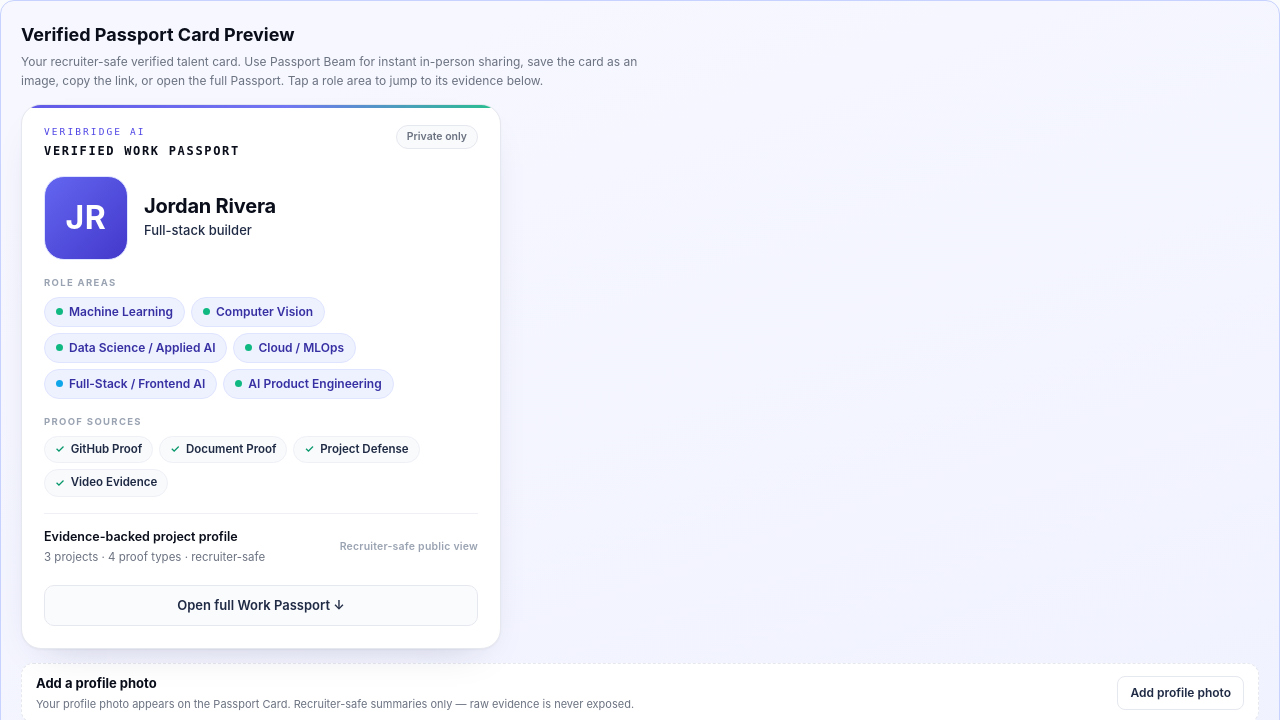
Verified Passport Card preview (private) › clicking a card role chip sets the high-level Role Area filter (not a skill)
The image size is (1280, 720).
Click the button with test id "passport-card-capability" showing "Computer Vision" at point(258, 312), box x1=191 y1=297 x2=325 y2=327
(page scrolled)
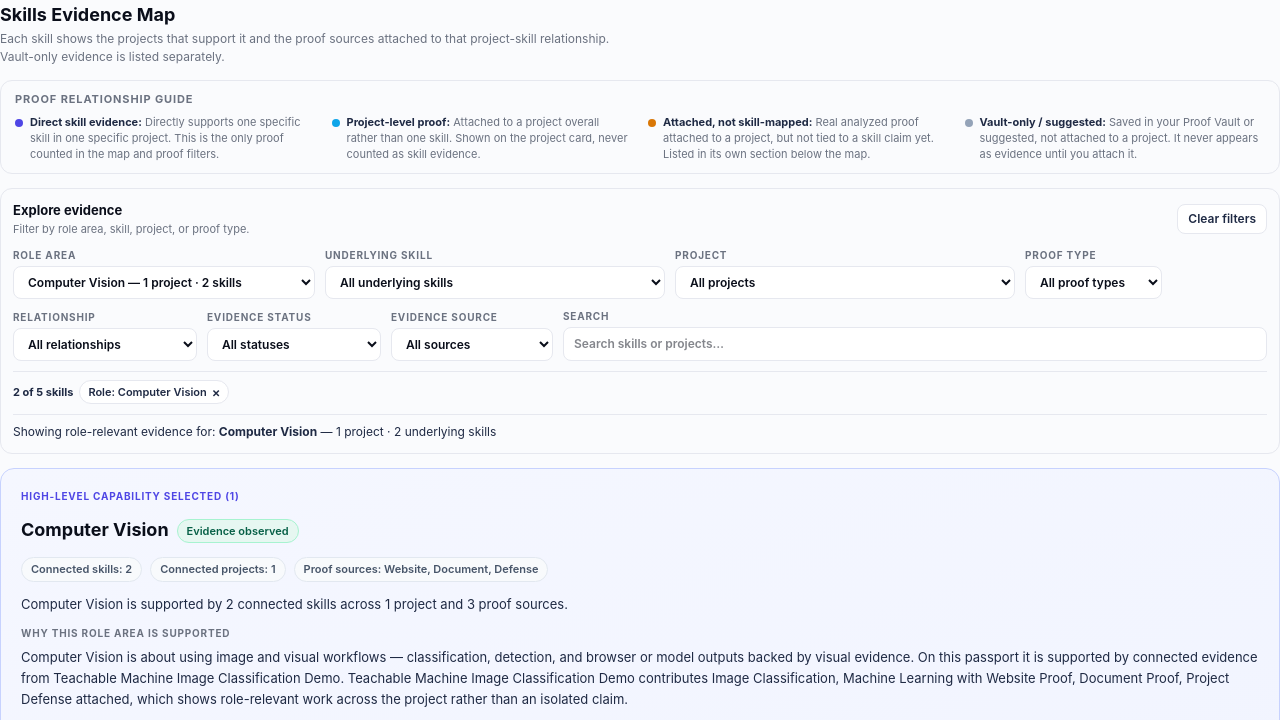
Check: the dropdown with test id "passport-role-area-filter" shows "Computer Vision — 1 project · 2 skills", box x1=13 y1=266 x2=315 y2=299
